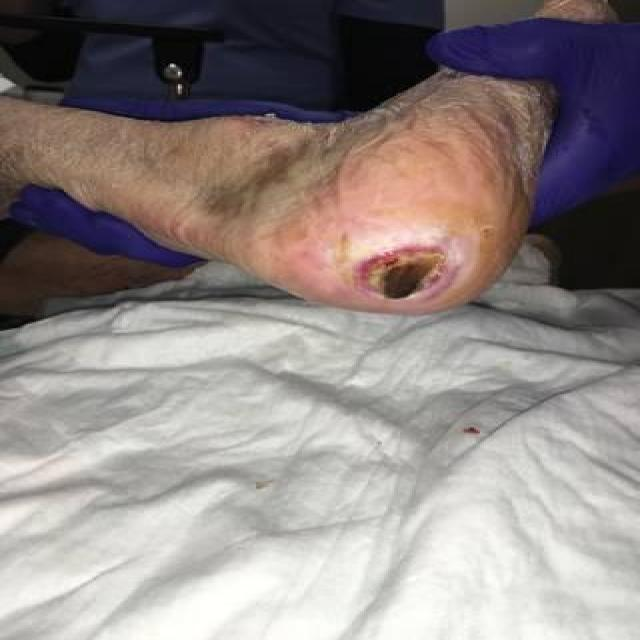Unstageable: (360, 248, 445, 299)
